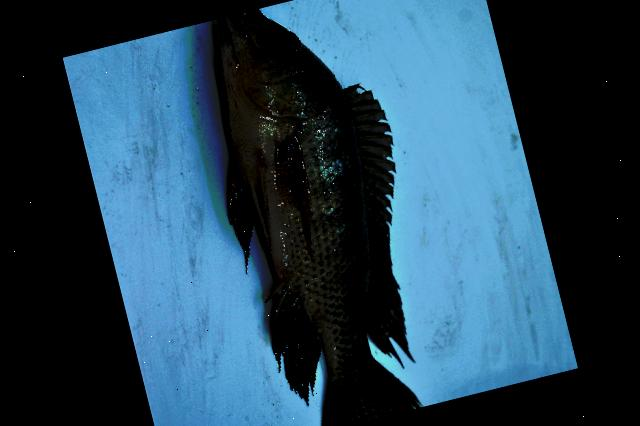Healthy Fish: (216, 9, 420, 426)
